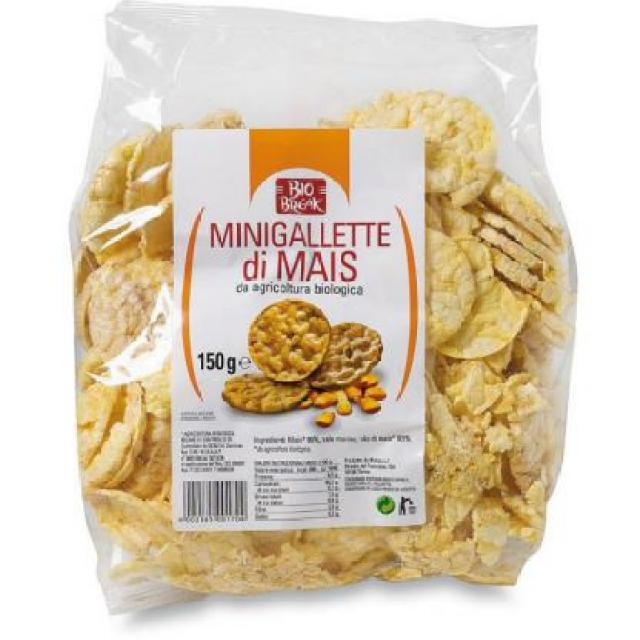Gallette di riso: (63, 1, 580, 608)
